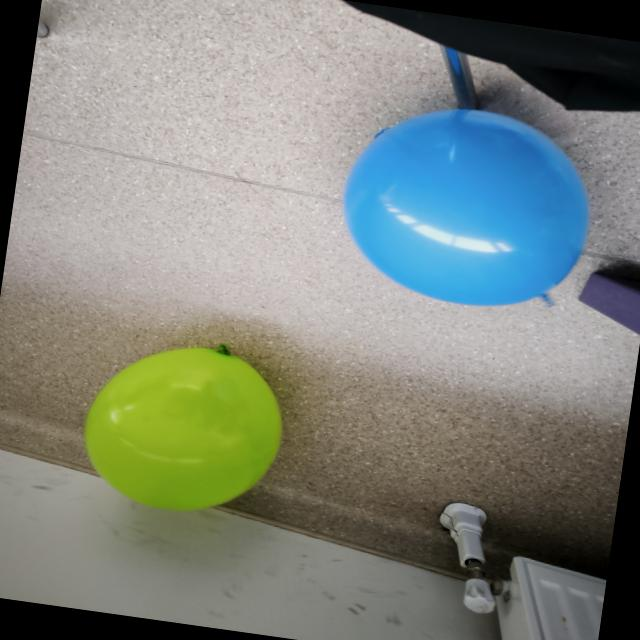balloon: (344, 110, 588, 305), (85, 347, 282, 510)
